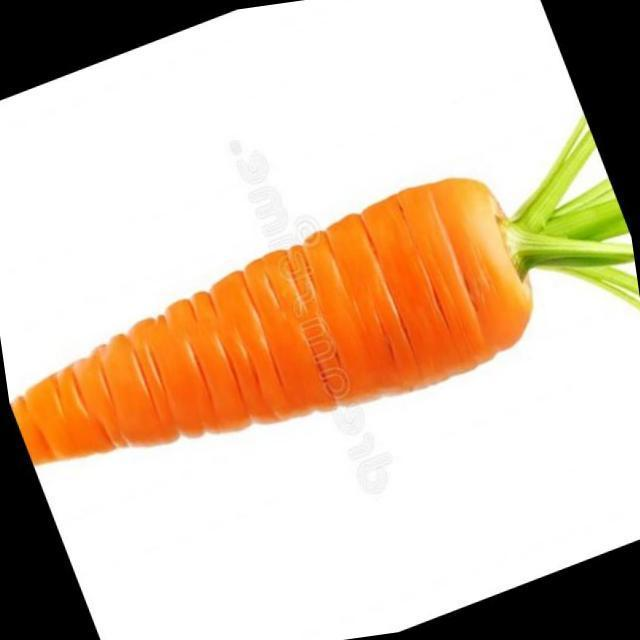Carrot: (14, 119, 639, 462)
